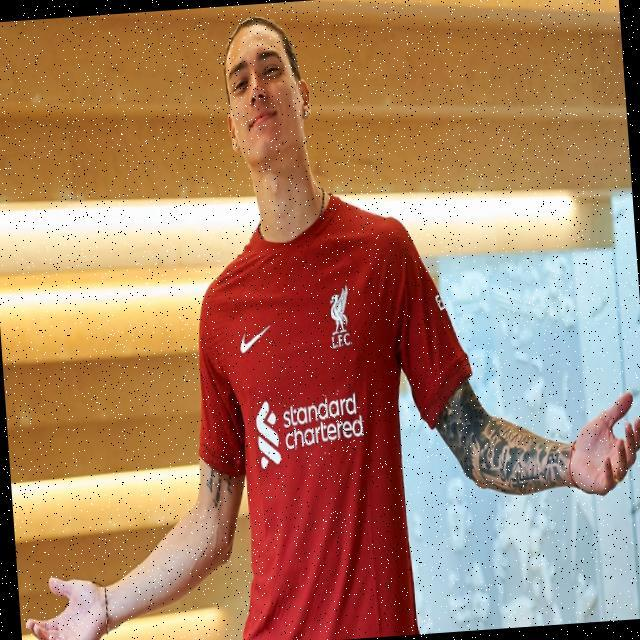Nike: (237, 323, 272, 354)
Standard Chartered: (253, 389, 366, 470)
